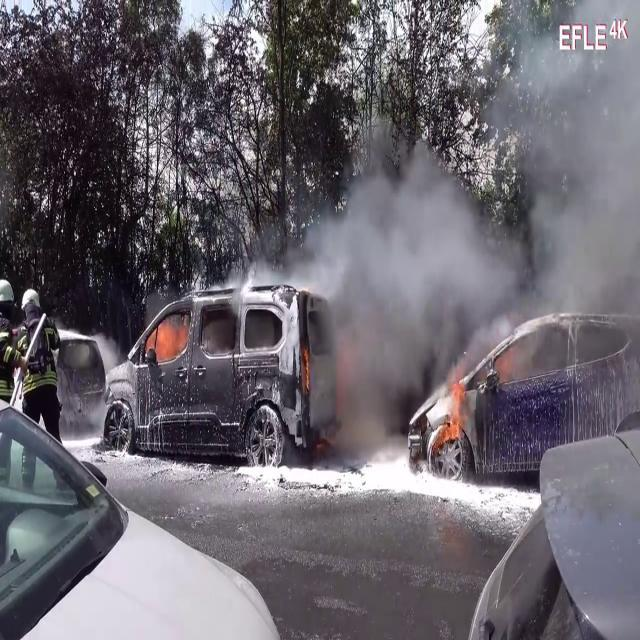Fire: (428, 373, 470, 452), (148, 312, 188, 367)
Smoke: (306, 136, 522, 454), (499, 1, 640, 356)
